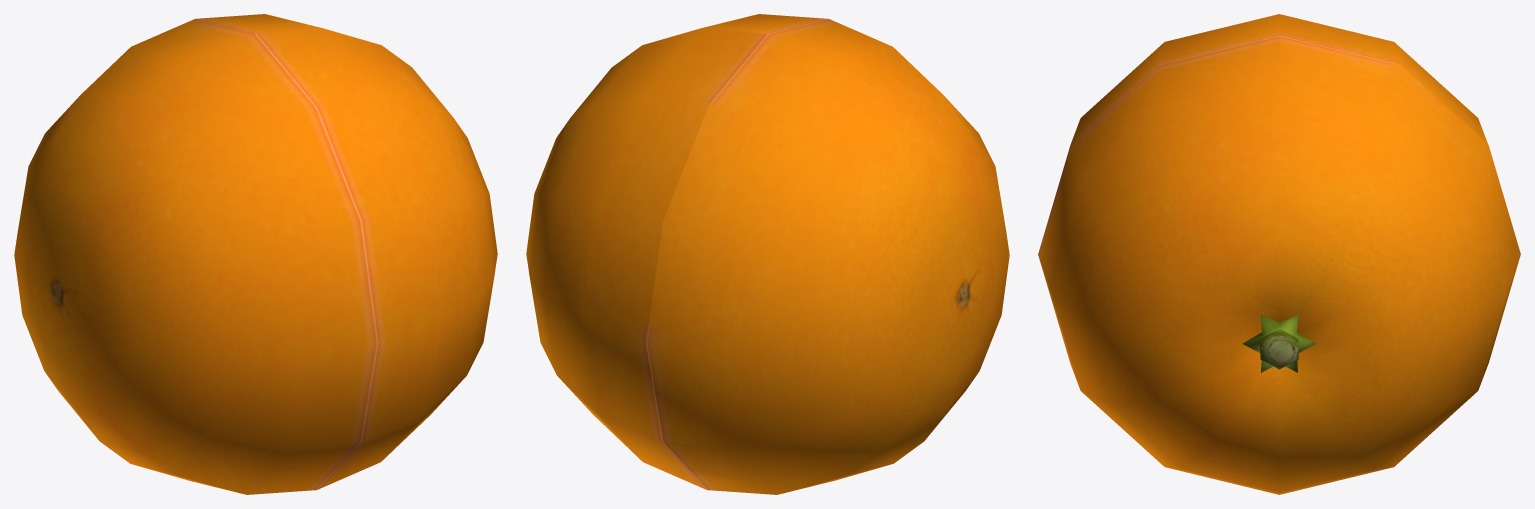
The model's file is orange.FBX.
3 renders of one model, left to right at view 1: azimuth 30°, elevation 25°; view 2: azimuth 150°, elevation 25°; view 3: azimuth 270°, elevation 25°, orthographic.
Parts seen in each view (by area): view 1: orange, orange02, orange01; view 2: orange, orange02, orange01; view 3: orange, orange01.
Part boxes in pixels (left/top/right/bottom): orange: left=14, top=15, right=497, bottom=489; orange02: left=14, top=62, right=377, bottom=494; orange01: left=195, top=14, right=321, bottom=106; orange: left=526, top=14, right=1009, bottom=494; orange02: left=661, top=63, right=1008, bottom=493; orange01: left=585, top=21, right=820, bottom=489; orange: left=1038, top=14, right=1508, bottom=494; orange01: left=1160, top=35, right=1520, bottom=389.
Size of the model in its own units: 1.74 by 1.83 by 1.83.
Materials: 1 (1 with a texture image).
